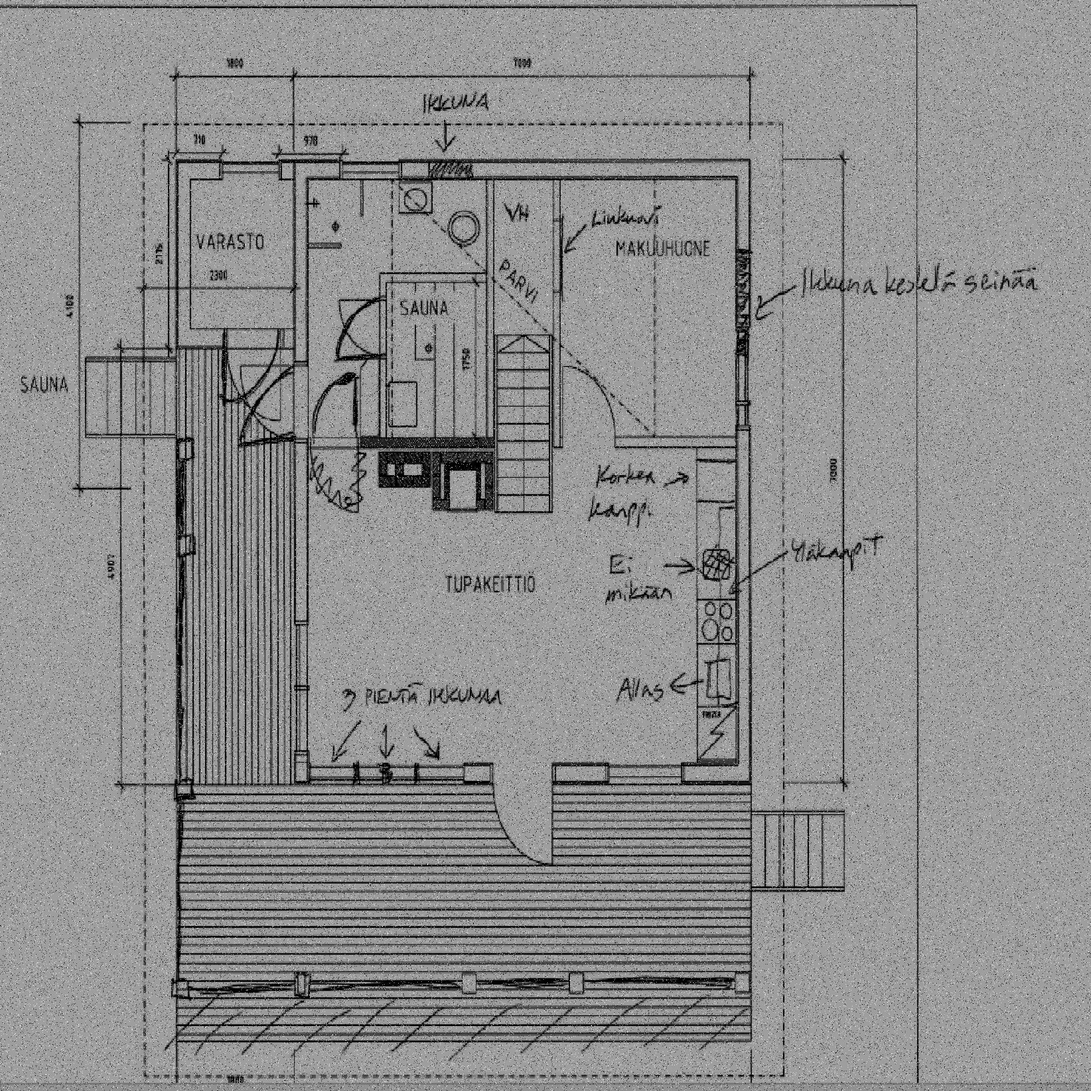wall: (176, 159, 752, 179), (294, 766, 752, 787), (737, 159, 752, 787), (294, 329, 309, 787), (176, 159, 191, 349), (176, 329, 309, 349), (294, 159, 309, 328), (487, 159, 494, 448), (553, 159, 560, 448), (293, 438, 494, 448), (553, 438, 750, 448), (380, 452, 430, 487), (380, 274, 387, 448), (380, 273, 494, 283)
